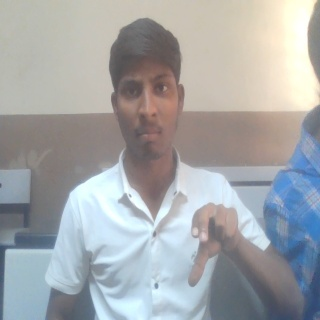Face: (107, 16, 186, 164)
No: (184, 200, 243, 290)
